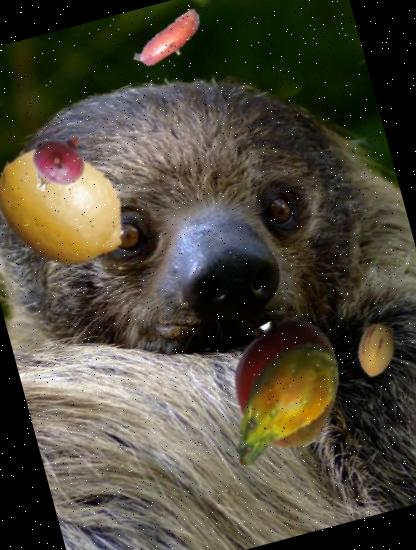Banana: (121, 0, 219, 91)
Cactus: (192, 317, 366, 490)
Lemon: (0, 124, 146, 292)
Mango: (211, 305, 368, 462)
Onion: (8, 120, 102, 214)
Pepino: (344, 316, 411, 384)
